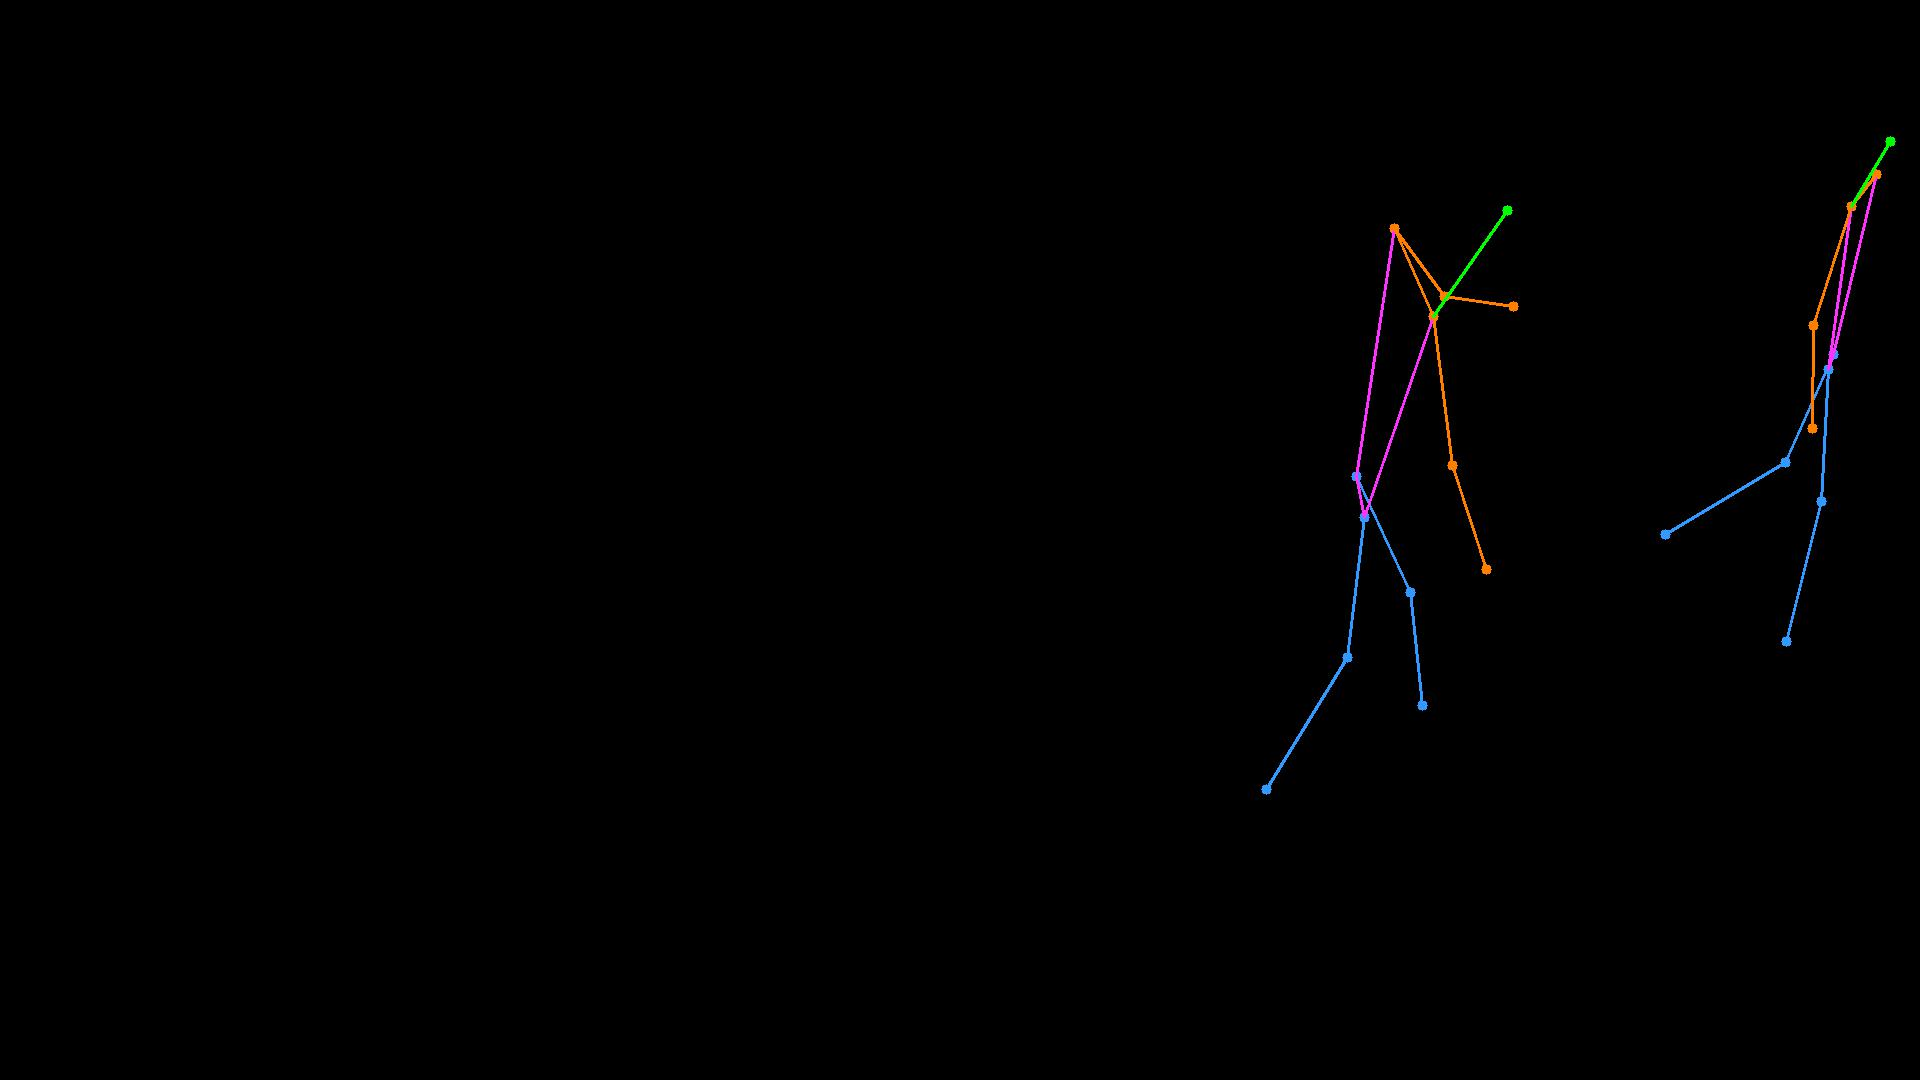normal: (1188, 87, 1581, 828), (1611, 58, 1920, 699)
